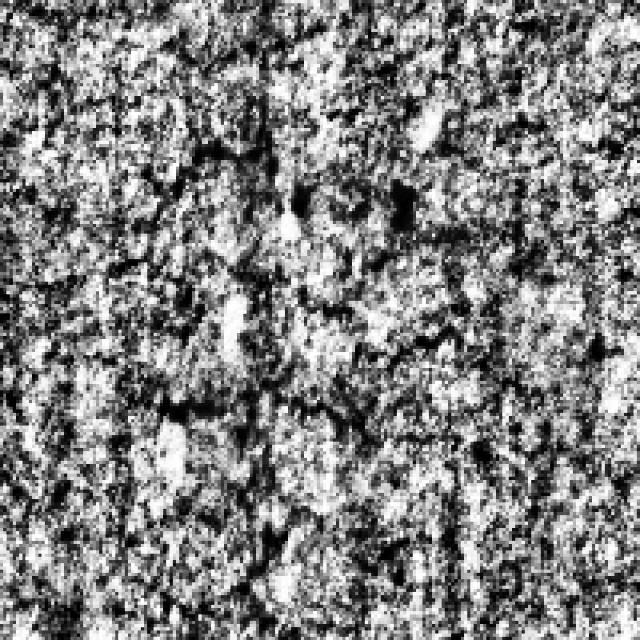Pitted_Surface: (99, 246, 522, 432), (118, 444, 301, 612), (119, 28, 278, 212)
